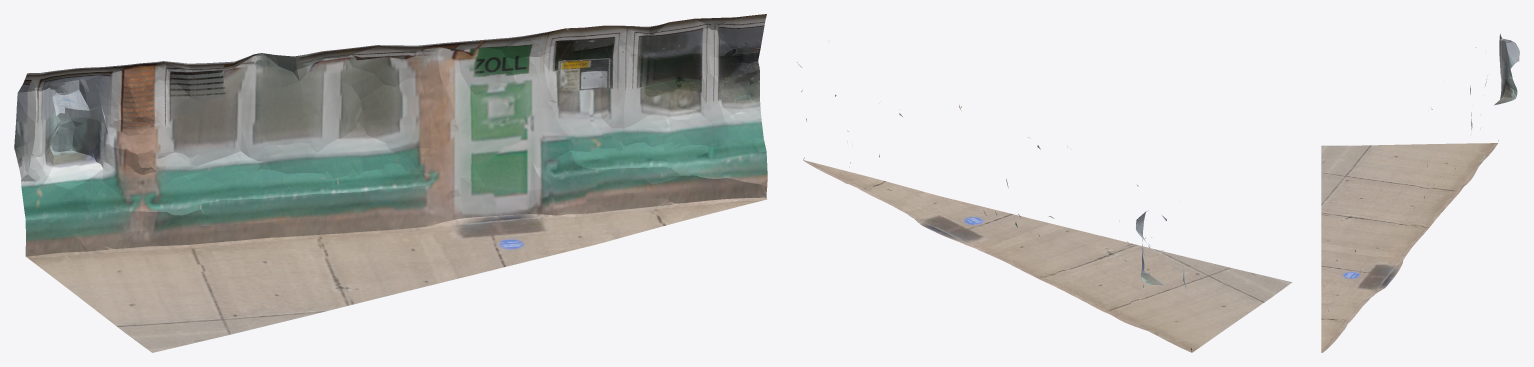
3 views of the same model, side by side, from view 1: azimuth 30°, elevation 25°; view 2: azimuth 150°, elevation 25°; view 3: azimuth 270°, elevation 25° (orthographic). The views are drawn at different scales.
Bounding box in the file's own units: 8.36 × 2.46 × 3.33.
2 materials, 2 textured.
